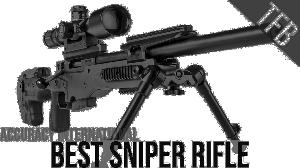sniper: (17, 4, 284, 158)
